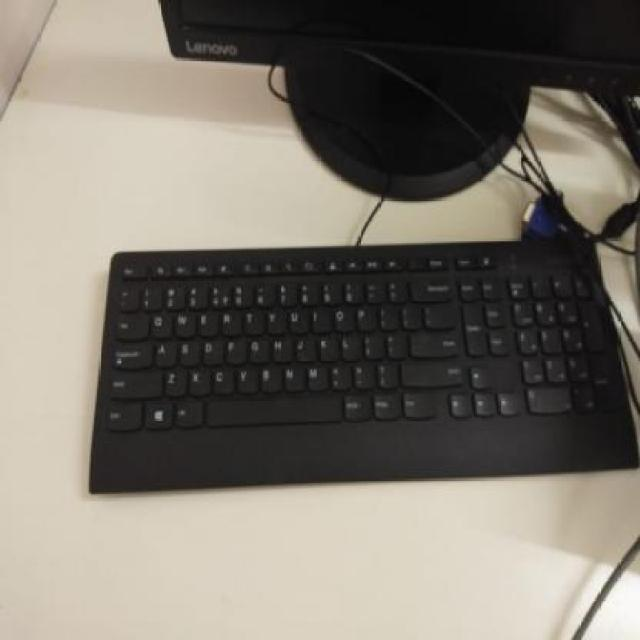keyboard: (86, 236, 640, 490)
